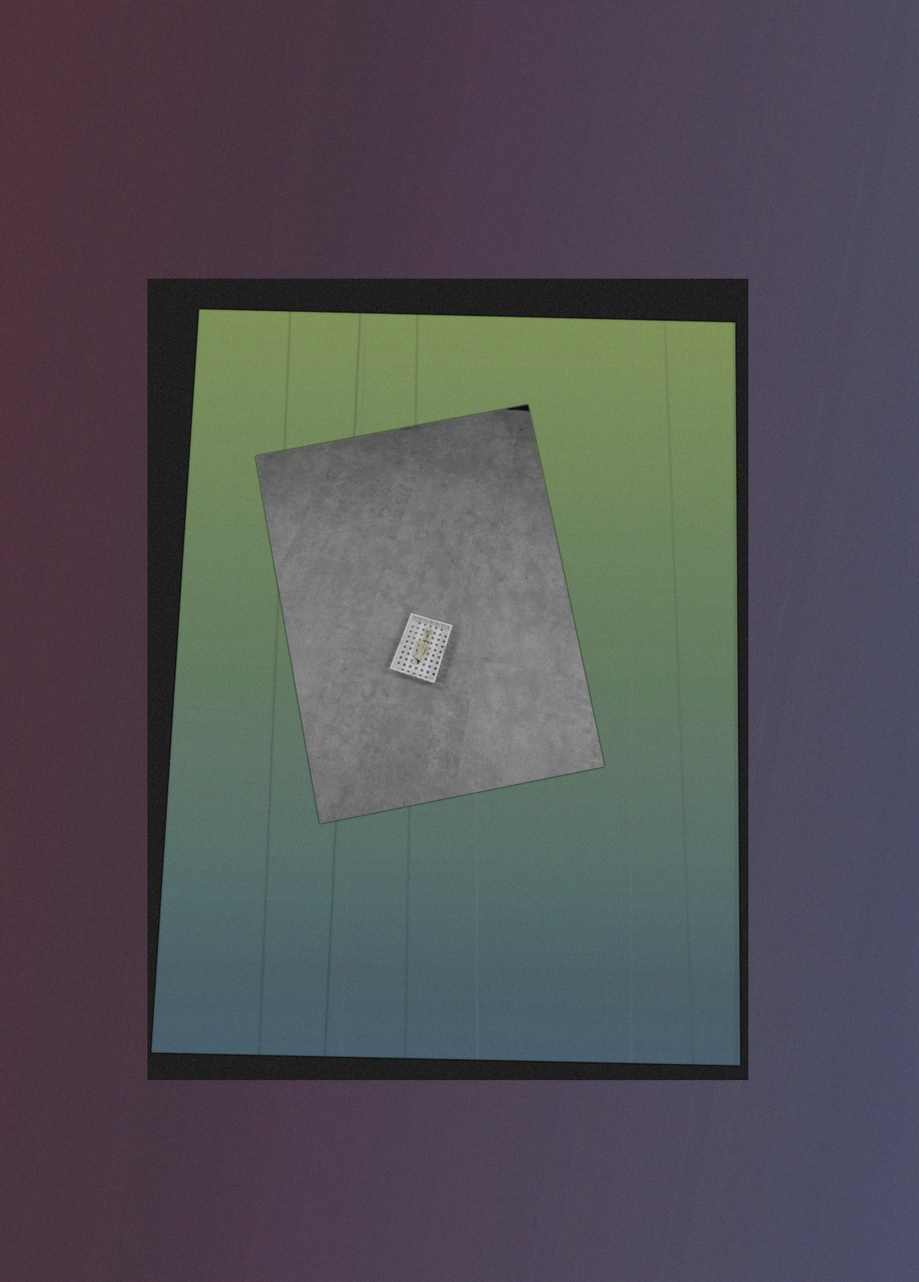basket: (387, 612, 456, 686)
mannequin: (409, 627, 434, 667)
